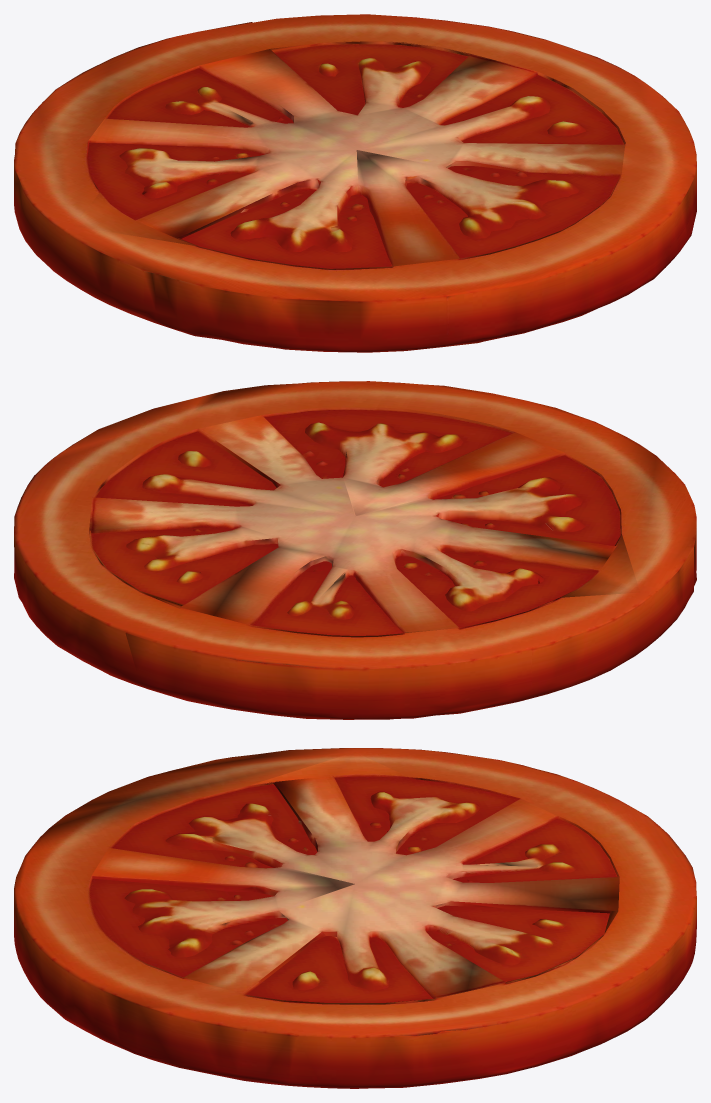
File: tomato.glb
3 views of the same model, one above another, from view 1: azimuth 30°, elevation 25°; view 2: azimuth 150°, elevation 25°; view 3: azimuth 270°, elevation 25° (orthographic).
Parts seen in each view (by area): view 1: material; view 2: material; view 3: material.
Part boxes in pixels (left/top/right/bottom): material: left=14, top=14, right=696, bottom=352; material: left=14, top=381, right=696, bottom=719; material: left=14, top=748, right=696, bottom=1088.
Bounding box in the file's own units: 1.9 × 0.1999 × 1.9.
Materials: 1 (1 with a texture image).
